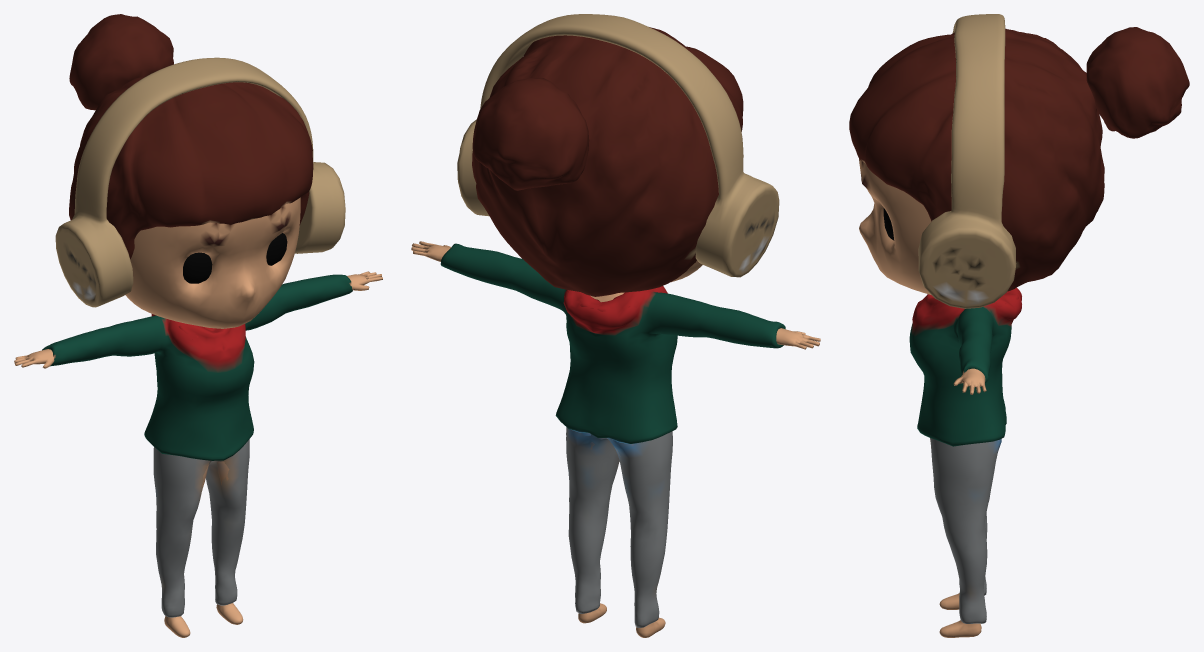
The model's file is chibi.fbx.
3 views of the same model, side by side, from view 1: azimuth 30°, elevation 25°; view 2: azimuth 150°, elevation 25°; view 3: azimuth 270°, elevation 25° (orthographic). The views are drawn at different scales.
Parts seen in each view (by area): view 1: Low; view 2: Low; view 3: Low.
Boxes of the visible parts, <box> form: Low: <box>14,14,382,637</box>; Low: <box>411,14,820,637</box>; Low: <box>849,14,1189,637</box>.
Bounding box in the file's own units: 1.94 × 2.79 × 1.45.
